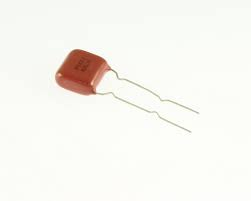ceramic capacitor: (36, 21, 127, 104)
